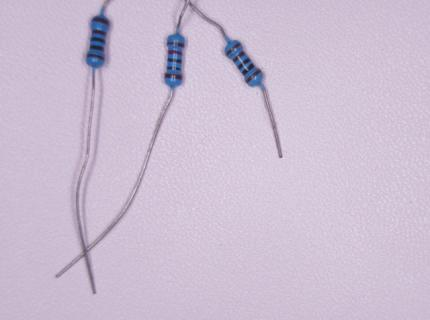Black band: (237, 57, 251, 70), (242, 63, 255, 76), (90, 45, 105, 52), (91, 37, 106, 44)
Brown band: (245, 69, 262, 84), (225, 42, 242, 57), (232, 51, 246, 63), (91, 18, 110, 26), (87, 54, 104, 60), (92, 30, 107, 36)
